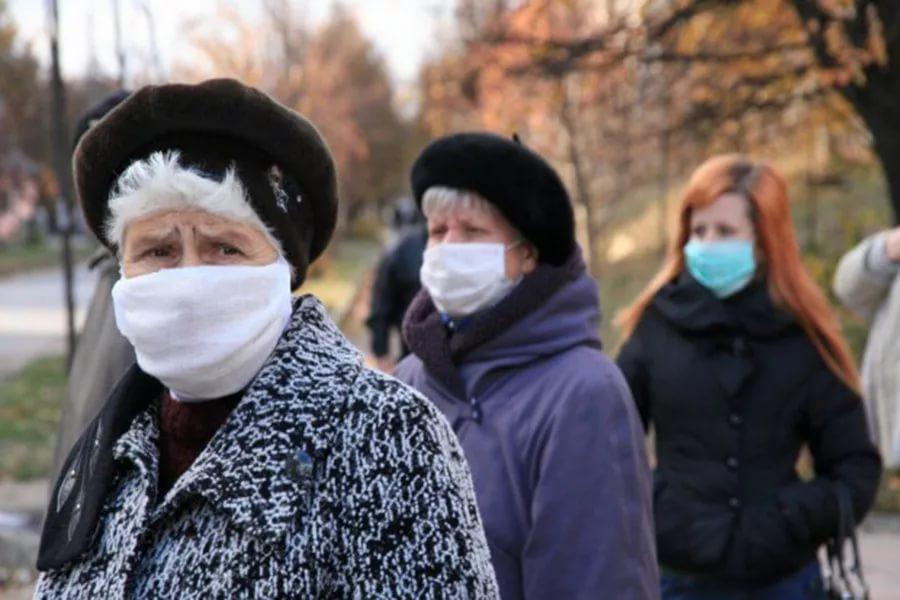mask: (107, 185, 284, 396), (417, 185, 512, 317), (679, 197, 758, 286)
